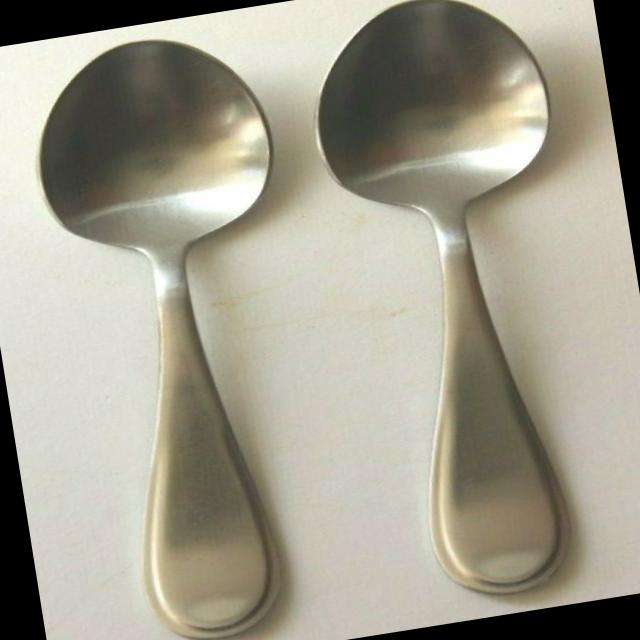spoon: (288, 0, 640, 628)
